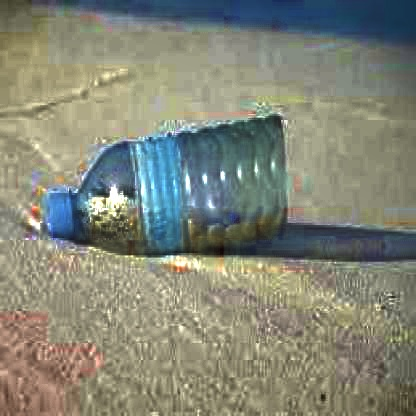pbottle: (37, 110, 295, 262)
